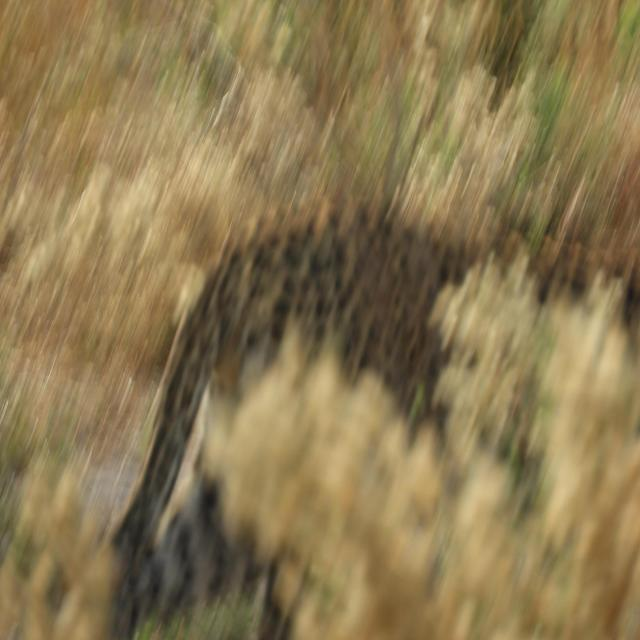Leopard: (45, 146, 603, 604)
